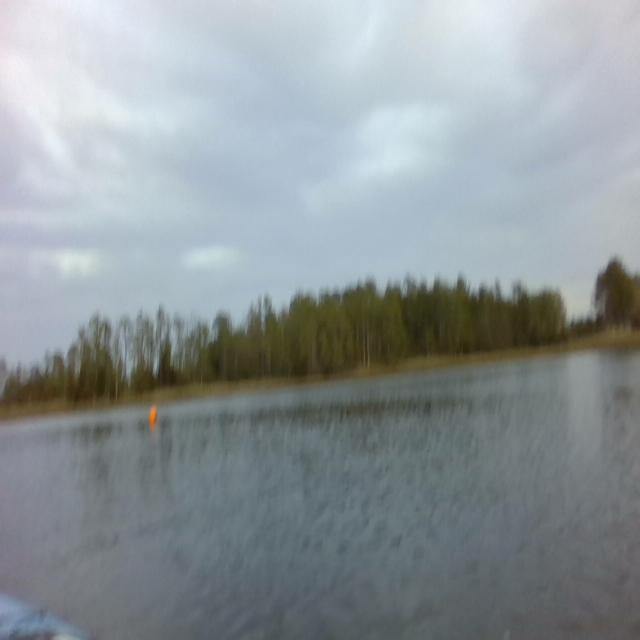Buoy: (148, 401, 159, 428)
